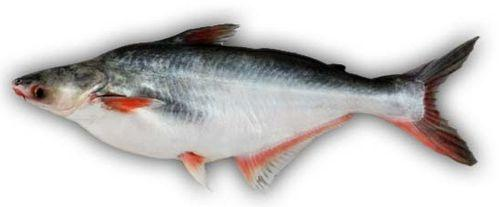Pangasius: (10, 19, 481, 195)
